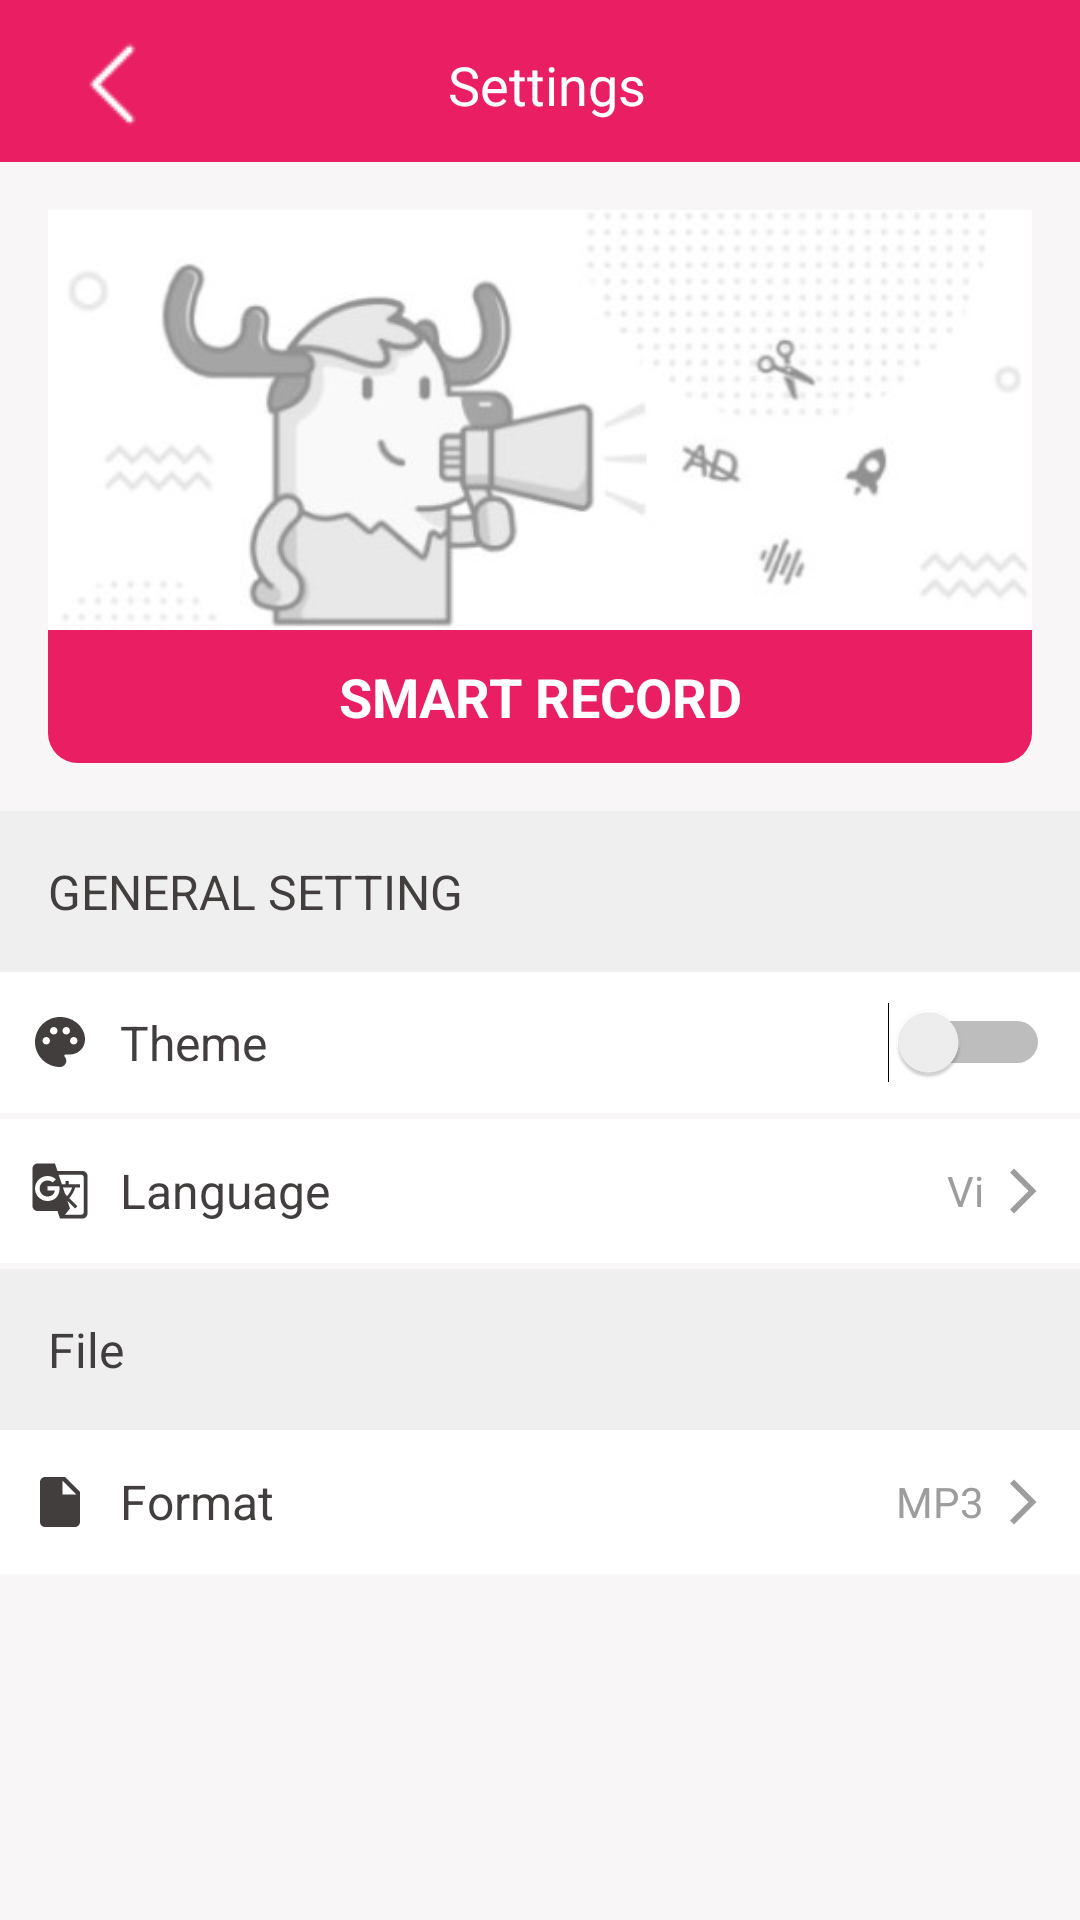

Where icons sit on this 1080*1920 app screen, as (x1, y1, x2, y2):
arrow next: (1010, 1169, 1036, 1213), (1010, 1480, 1036, 1524)
back: (89, 44, 136, 124)
palette: (35, 1017, 85, 1067)
